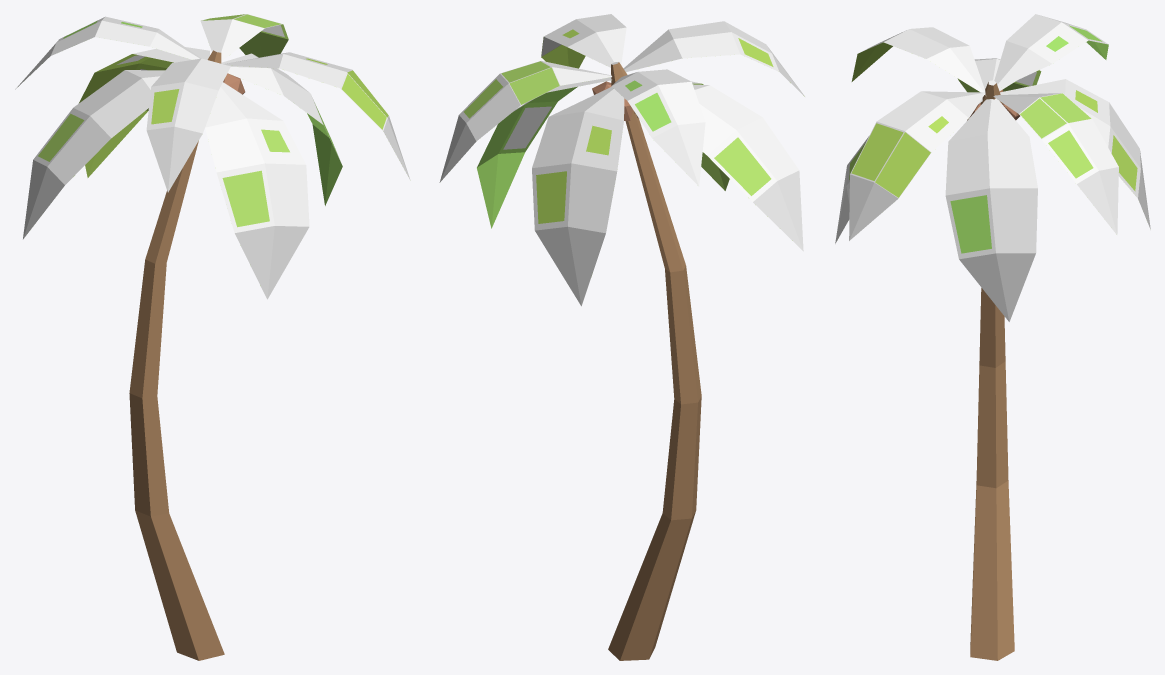
File: Palm_Tree_Coconut_m_Snow_03_LOD.fbx
The picture shows the model from 3 angles, left to right: view 1: azimuth 30°, elevation 25°; view 2: azimuth 150°, elevation 25°; view 3: azimuth 270°, elevation 25°; orthographic projection. The views are drawn at different scales.
Visible parts, largest first — view 1: Palm_Tree_Coconut_m_Snow_03_LOD0; view 2: Palm_Tree_Coconut_m_Snow_03_LOD0; view 3: Palm_Tree_Coconut_m_Snow_03_LOD0.
Part boxes in pixels (x1,y1,x2,y2): Palm_Tree_Coconut_m_Snow_03_LOD0: [15, 14, 410, 660]; Palm_Tree_Coconut_m_Snow_03_LOD0: [439, 14, 804, 660]; Palm_Tree_Coconut_m_Snow_03_LOD0: [835, 14, 1150, 660].
Size of what is drawn, in the model's own units: 301 by 563 by 269.
